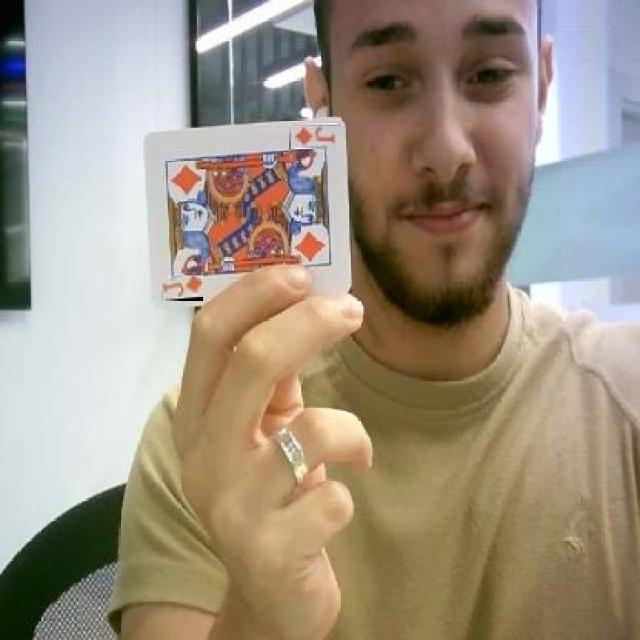JD: (290, 125, 338, 149), (162, 275, 203, 300)
